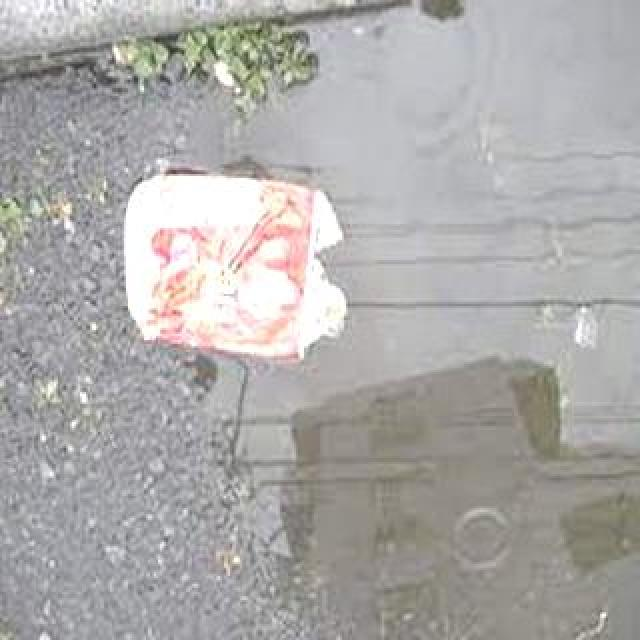Can: (107, 165, 355, 359)
